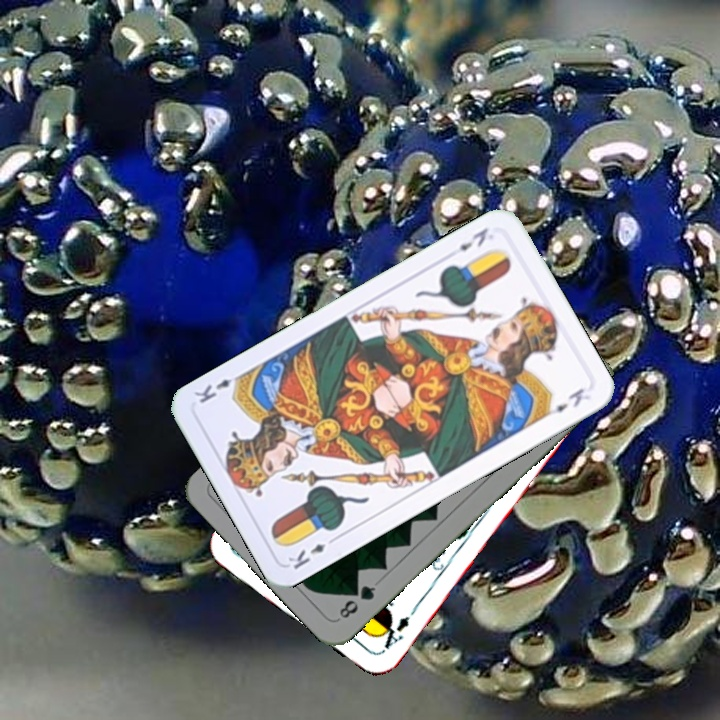EA: (375, 611, 412, 654)
EK: (283, 532, 340, 572), (454, 223, 491, 254)
G8: (334, 581, 379, 623)
